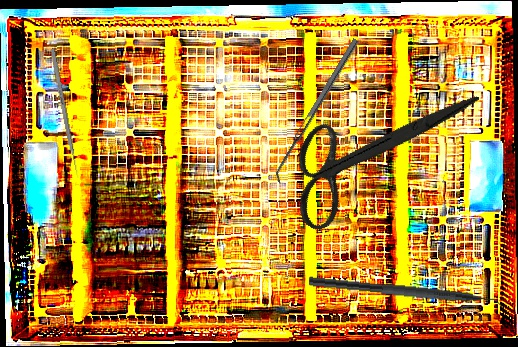Chopper: (307, 276, 513, 318)
Iris Scissors: (269, 33, 480, 269)
Pusher: (49, 48, 81, 179)
Spatula Surgical: (270, 38, 365, 184)
